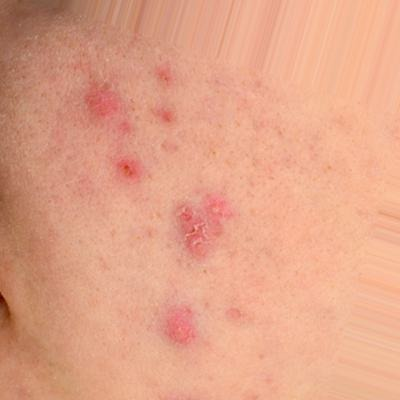Acne: (70, 65, 270, 346)
